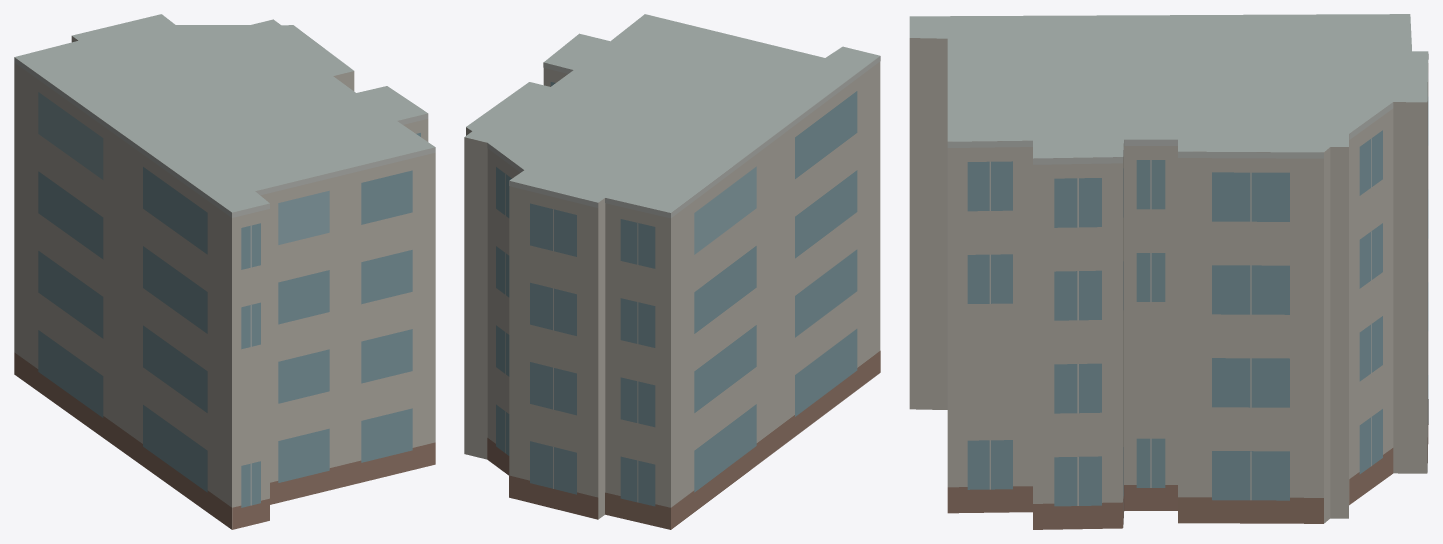
File: survey-upis-32605203.glb
The picture shows the model from 3 angles, left to right: view 1: azimuth 30°, elevation 25°; view 2: azimuth 150°, elevation 25°; view 3: azimuth 270°, elevation 25°; orthographic projection. The views are drawn at different scales.
Visible parts, largest first — view 1: survey-upis-32605203.tmp; view 2: survey-upis-32605203.tmp; view 3: survey-upis-32605203.tmp.
Part boxes in pixels (x1,y1,x2,y2): survey-upis-32605203.tmp: [14, 14, 435, 529]; survey-upis-32605203.tmp: [464, 14, 880, 529]; survey-upis-32605203.tmp: [909, 14, 1428, 529].
Bounding box in the file's own units: 11.94 × 14.3 × 18.11.
